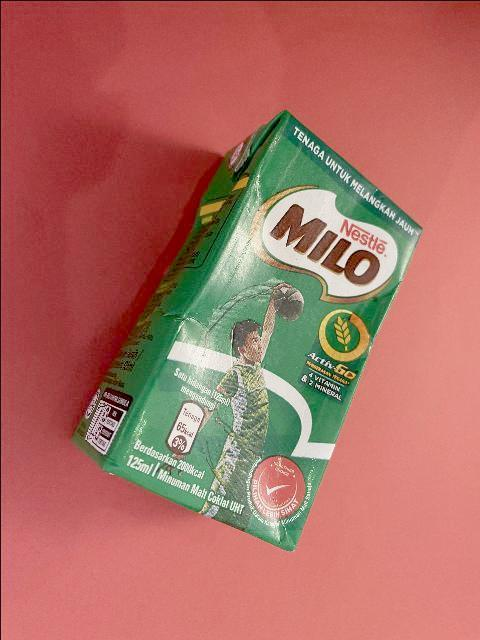drinkpack: (68, 106, 424, 554)
